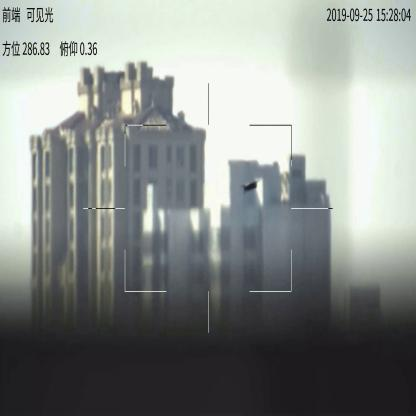uav: (239, 178, 255, 191)
